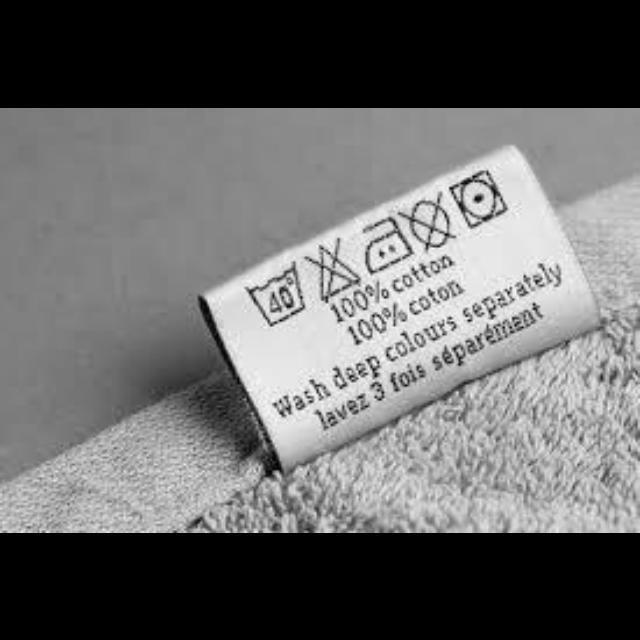40C: (240, 258, 308, 328)
DN_bleach: (301, 232, 364, 306)
DN_dry_clean: (396, 188, 459, 256)
iron_medium: (359, 212, 416, 278)
tumble_dry_low: (446, 164, 512, 232)
